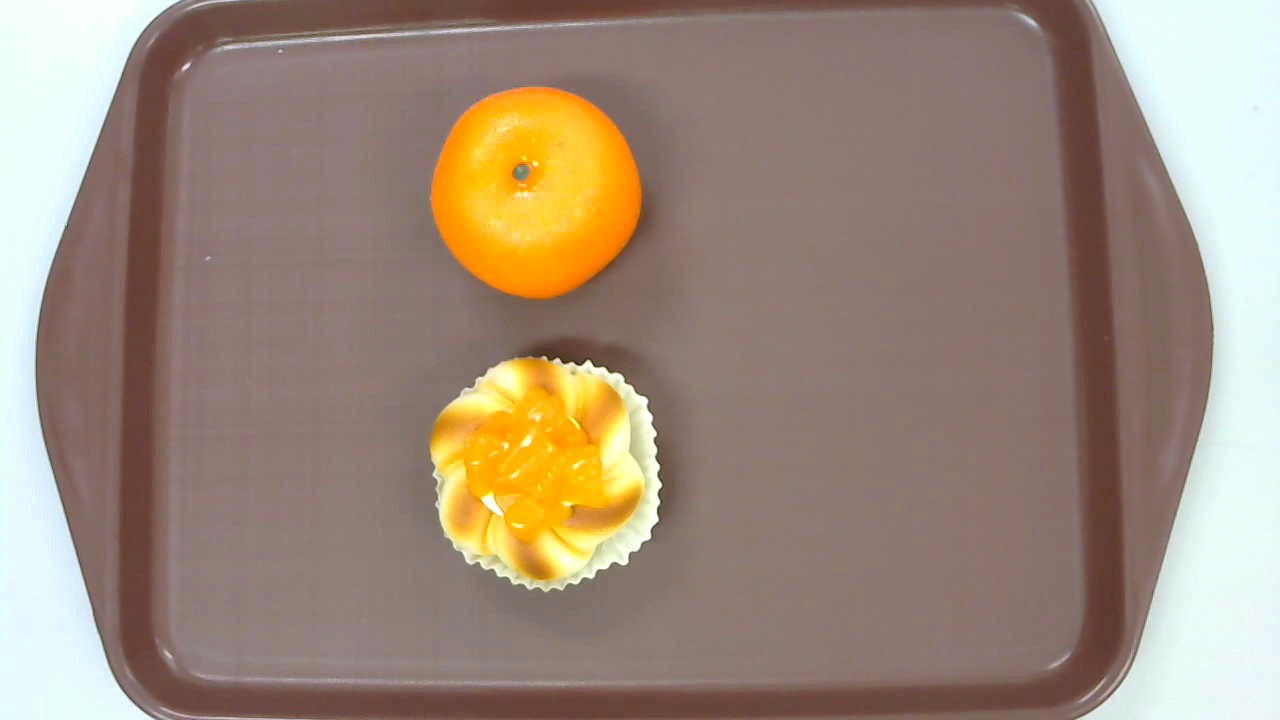mango tart: (428, 355, 663, 591)
orange: (429, 85, 643, 300)
